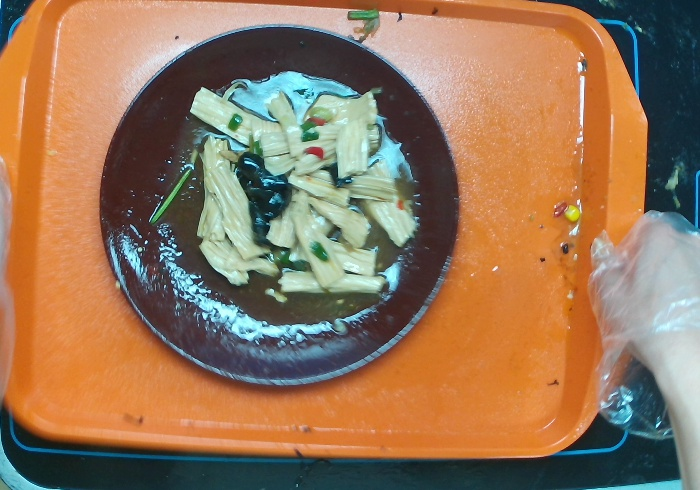HZYJPL-Ka_Fei_Yuan_Pan: (74, 14, 476, 412)
